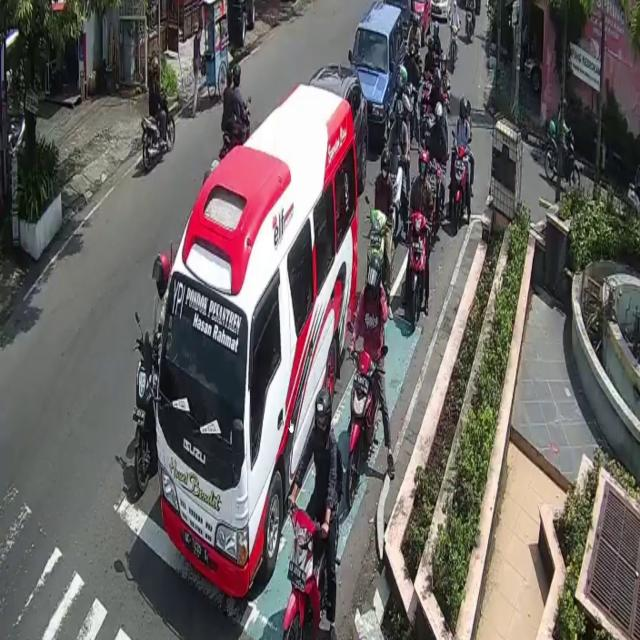bus: (285, 501, 332, 640), (349, 347, 380, 502), (134, 344, 159, 492), (363, 209, 390, 312), (141, 92, 175, 173), (544, 132, 580, 192), (409, 216, 427, 329), (452, 143, 468, 227)
car: (157, 82, 358, 594)
motorcycle: (351, 0, 407, 144), (312, 62, 370, 184)
